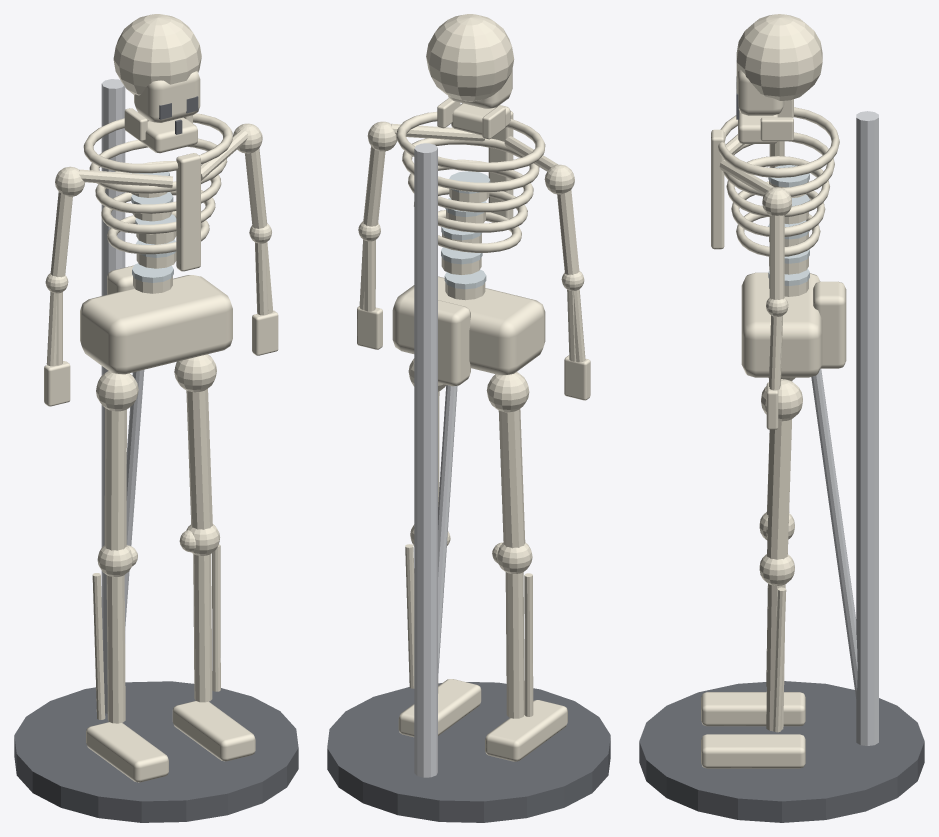
Rendered from human-anatomy-and-education-kit-full-skeleton-6e2282f7__38937.glb.
3 renders of one model, left to right at view 1: azimuth 30°, elevation 25°; view 2: azimuth 150°, elevation 25°; view 3: azimuth 270°, elevation 25°, orthographic.
Parts seen in each view (by area): view 1: full-skeleton, jaw; view 2: full-skeleton, jaw; view 3: full-skeleton, jaw.
Part boxes in pixels (bbox=[...]): full-skeleton: bbox=[14, 14, 298, 822]; jaw: bbox=[124, 108, 197, 153]; full-skeleton: bbox=[327, 14, 610, 822]; jaw: bbox=[437, 98, 510, 139]; full-skeleton: bbox=[639, 14, 924, 822]; jaw: bbox=[738, 99, 793, 143].
Size of the model in its own units: 0.5999 by 1.73 by 0.5999.
